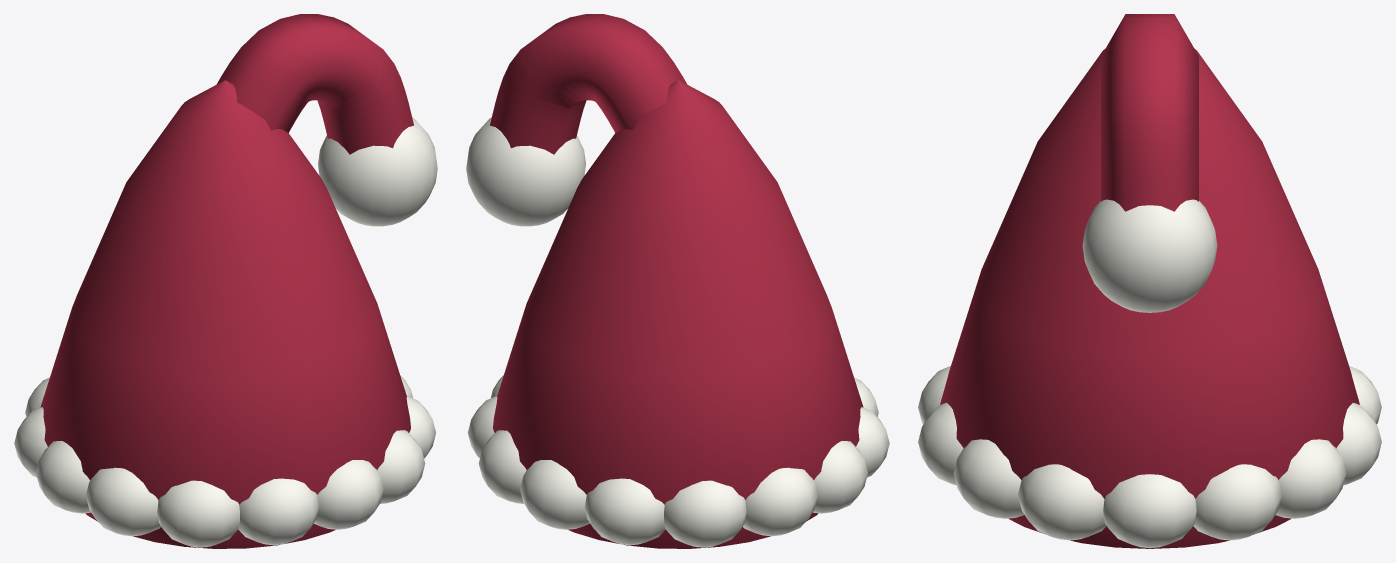
The model's file is storybook-christmas-market-fur-trimmed-santa-hat-f7f1eebe__19736.glb.
3 views of the same model, side by side, from view 1: azimuth 30°, elevation 25°; view 2: azimuth 150°, elevation 25°; view 3: azimuth 270°, elevation 25° (orthographic). The views are drawn at different scales.
Visible parts, largest first — view 1: fur-trimmed-santa-hat; view 2: fur-trimmed-santa-hat; view 3: fur-trimmed-santa-hat.
Boxes of the visible parts, <box> form: fur-trimmed-santa-hat: <box>14,14,437,548</box>; fur-trimmed-santa-hat: <box>466,14,889,548</box>; fur-trimmed-santa-hat: <box>918,14,1381,548</box>.
Size of the model in its own units: 0.788 by 0.8521 by 0.7294.
